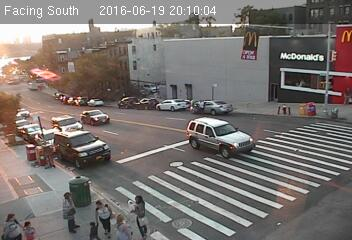neg: (123, 156, 147, 188), (283, 100, 306, 131), (316, 98, 337, 125), (59, 93, 78, 118), (95, 87, 113, 111), (30, 137, 48, 160), (220, 94, 235, 115), (260, 97, 275, 117)
pos: (123, 193, 156, 238), (49, 188, 82, 232), (88, 197, 115, 233), (111, 214, 128, 237)
